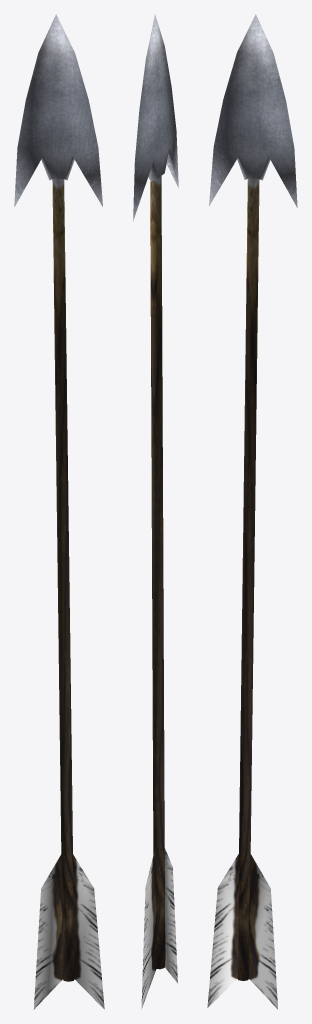
File: Arroow.fbx
The picture shows the model from 3 angles, left to right: view 1: azimuth 90°, elevation 25°; view 2: azimuth 150°, elevation 25°; view 3: azimuth 270°, elevation 25°; orthographic projection.
Parts seen in each view (by area): view 1: flecha; view 2: flecha; view 3: flecha.
Boxes of the visible parts, box(x1,y1,x2,y2) form: flecha: box(14, 14, 104, 1009); flecha: box(133, 14, 178, 1009); flecha: box(207, 14, 297, 1009).
Bounding box in the file's own units: 21.9 × 866 × 71.2.
